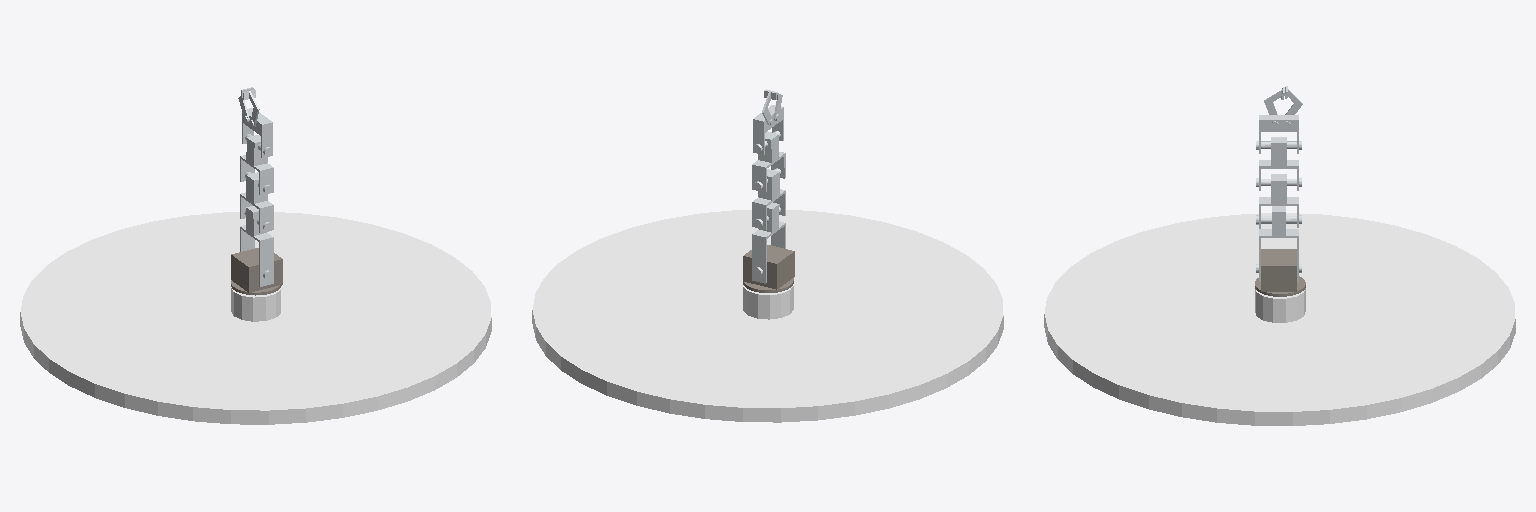
URDF robot description (bamba):
<robot
  name="bamba">
  <link
    name="base">
    <inertial>
      <origin
        xyz="-1.3286E-17 0.010522 -2.0071E-19"
        rpy="0 0 0" />
      <mass
        value="7.4968" />
      <inertia
        ixx="0.001"
        ixy="0"
        ixz="0"
        iyy="0.001"
        iyz="0"
        izz="0.001" />
    </inertial>
    <visual>
      <origin
        xyz="0 0 0"
        rpy="0 0 0" />
      <geometry>
        <mesh
          filename="package://bamba/meshes/base.STL" />
      </geometry>
      <material
        name="">
        <color
          rgba="1 1 1 1" />
      </material>
    </visual>
    <collision>
      <origin
        xyz="0 0 0"
        rpy="0 0 0" />
      <geometry>
        <mesh
          filename="package://bamba/meshes/base.STL" />
      </geometry>
    </collision>
  </link>
  <link
    name="base_link">
    <inertial>
      <origin
        xyz="-0.029653 -0.00012697 0.0013008"
        rpy="0 0 0" />
      <mass
        value="0.13356" />
      <inertia
        ixx="0.001"
        ixy="0"
        ixz="0"
        iyy="0.001"
        iyz="0"
        izz="0.001" />
    </inertial>
    <visual>
      <origin
        xyz="0 0 0"
        rpy="0 0 0" />
      <geometry>
        <mesh
          filename="package://bamba/meshes/base_link.STL" />
      </geometry>
      <material
        name="">
        <color
          rgba="0.64706 0.61961 0.58824 1" />
      </material>
    </visual>
    <collision>
      <origin
        xyz="0 0 0"
        rpy="0 0 0" />
      <geometry>
        <mesh
          filename="package://bamba/meshes/base_link.STL" />
      </geometry>
    </collision>
  </link>
  <joint
    name="joint_0"
    type="revolute">
    <origin
      xyz="0 0 0.044"
      rpy="1.4709 1.5708 0" />
    <parent
      link="base" />
    <child
      link="base_link" />
    <axis
      xyz="-1 0 0" />
    <limit
      lower="-1.57"
      upper="1.57"
      effort="100"
      velocity="100" />
    <dynamics
      damping="1"
      friction="1" />
  </joint>
  <link
    name="link_1">
    <inertial>
      <origin
        xyz="-0.00012583 0.03094 0.0017334"
        rpy="0 0 0" />
      <mass
        value="0.040392" />
      <inertia
        ixx="0.001"
        ixy="0"
        ixz="0"
        iyy="0.001"
        iyz="0"
        izz="0.001" />
    </inertial>
    <visual>
      <origin
        xyz="0 0 0"
        rpy="0 0 0" />
      <geometry>
        <mesh
          filename="package://bamba/meshes/link_1.STL" />
      </geometry>
      <material
        name="">
        <color
          rgba="0.89804 0.91765 0.92941 1" />
      </material>
    </visual>
    <collision>
      <origin
        xyz="0 0 0"
        rpy="0 0 0" />
      <geometry>
        <mesh
          filename="package://bamba/meshes/link_1.STL" />
      </geometry>
    </collision>
  </link>
  <joint
    name="joint_1"
    type="revolute">
    <origin
      xyz="-0.038 0 0"
      rpy="-1.6121E-17 -0.0973 1.5708" />
    <parent
      link="base_link" />
    <child
      link="link_1" />
    <axis
      xyz="0 0 1" />
    <limit
      lower="-1.77"
      upper="1.77"
      effort="100"
      velocity="100" />
    <dynamics
      damping="1"
      friction="1" />
  </joint>
  <link
    name="link_2">
    <inertial>
      <origin
        xyz="-0.02101 -0.0012662 0.0017342"
        rpy="0 0 0" />
      <mass
        value="0.036964" />
      <inertia
        ixx="0.001"
        ixy="0"
        ixz="0"
        iyy="0.001"
        iyz="0"
        izz="0.001" />
    </inertial>
    <visual>
      <origin
        xyz="0 0 0"
        rpy="0 0 0" />
      <geometry>
        <mesh
          filename="package://bamba/meshes/link_2.STL" />
      </geometry>
      <material
        name="">
        <color
          rgba="0.89804 0.91765 0.92941 1" />
      </material>
    </visual>
    <collision>
      <origin
        xyz="0 0 0"
        rpy="0 0 0" />
      <geometry>
        <mesh
          filename="package://bamba/meshes/link_2.STL" />
      </geometry>
    </collision>
  </link>
  <joint
    name="joint_2"
    type="revolute">
    <origin
      xyz="-0.00027654 0.067999 0"
      rpy="8.9772E-17 8.3728E-17 -1.6363" />
    <parent
      link="link_1" />
    <child
      link="link_2" />
    <axis
      xyz="0 0 1" />
    <limit
      lower="-1.77"
      upper="1.77"
      effort="100"
      velocity="100" />
    <dynamics
      damping="1"
      friction="1" />
  </joint>
  <link
    name="link_3">
    <inertial>
      <origin
        xyz="-0.0091402 0.01896 0.0017334"
        rpy="0 0 0" />
      <mass
        value="0.036964" />
      <inertia
        ixx="0.001"
        ixy="0"
        ixz="0"
        iyy="0.001"
        iyz="0"
        izz="0.001" />
    </inertial>
    <visual>
      <origin
        xyz="0 0 0"
        rpy="0 0 0" />
      <geometry>
        <mesh
          filename="package://bamba/meshes/link_3.STL" />
      </geometry>
      <material
        name="">
        <color
          rgba="0.89804 0.91765 0.92941 1" />
      </material>
    </visual>
    <collision>
      <origin
        xyz="0 0 0"
        rpy="0 0 0" />
      <geometry>
        <mesh
          filename="package://bamba/meshes/link_3.STL" />
      </geometry>
    </collision>
  </link>
  <joint
    name="joint_3"
    type="revolute">
    <origin
      xyz="-0.052405 -0.0031609 0"
      rpy="-1.0603E-16 -2.6455E-17 1.1761" />
    <parent
      link="link_2" />
    <child
      link="link_3" />
    <axis
      xyz="0 0 1" />
    <limit
      lower="-1.77"
      upper="1.77"
      effort="100"
      velocity="100" />
    <dynamics
      damping="1"
      friction="1" />
  </joint>
  <link
    name="link_4">
    <inertial>
      <origin
        xyz="-0.010775 0.011369 0.0018811"
        rpy="0 0 0" />
      <mass
        value="0.03322" />
      <inertia
        ixx="0.001"
        ixy="0"
        ixz="0"
        iyy="0.001"
        iyz="0"
        izz="0.001" />
    </inertial>
    <visual>
      <origin
        xyz="0 0 0"
        rpy="0 0 0" />
      <geometry>
        <mesh
          filename="package://bamba/meshes/link_4.STL" />
      </geometry>
      <material
        name="">
        <color
          rgba="0.89804 0.91765 0.92941 1" />
      </material>
    </visual>
    <collision>
      <origin
        xyz="0 0 0"
        rpy="0 0 0" />
      <geometry>
        <mesh
          filename="package://bamba/meshes/link_4.STL" />
      </geometry>
    </collision>
  </link>
  <joint
    name="joint_4"
    type="revolute">
    <origin
      xyz="-0.022802 0.04729 0"
      rpy="-1.7347E-18 0 -0.30764" />
    <parent
      link="link_3" />
    <child
      link="link_4" />
    <axis
      xyz="0 0 1" />
    <limit
      lower="-1.77"
      upper="1.77"
      effort="100"
      velocity="100" />
    <dynamics
      damping="1"
      friction="1" />
  </joint>
  <link
    name="pincer_master">
    <inertial>
      <origin
        xyz="0.0046223 -0.010473 0.00013126"
        rpy="0 0 0" />
      <mass
        value="0.0047634" />
      <inertia
        ixx="0.001"
        ixy="0"
        ixz="0"
        iyy="0.001"
        iyz="0"
        izz="0.001" />
    </inertial>
    <visual>
      <origin
        xyz="0 0 0"
        rpy="0 0 0" />
      <geometry>
        <mesh
          filename="package://bamba/meshes/pincer_master.STL" />
      </geometry>
      <material
        name="">
        <color
          rgba="0.89804 0.91765 0.92941 1" />
      </material>
    </visual>
    <collision>
      <origin
        xyz="0 0 0"
        rpy="0 0 0" />
      <geometry>
        <mesh
          filename="package://bamba/meshes/pincer_master.STL" />
      </geometry>
    </collision>
  </link>
  <joint
    name="joint_5"
    type="revolute">
    <origin
      xyz="-0.0227 0.023952 0.0064819"
      rpy="0.076967 -2.2708E-15 -2.383" />
    <parent
      link="link_4" />
    <child
      link="pincer_master" />
    <axis
      xyz="-1 0 0" />
    <limit
      lower="0"
      upper="3.14"
      effort="100"
      velocity="100" />
    <dynamics
      damping="1"
      friction="1" />
  </joint>
  <link
    name="pincer_slave">
    <inertial>
      <origin
        xyz="0.0046223 -0.010408 -0.0011652"
        rpy="0 0 0" />
      <mass
        value="0.0047634" />
      <inertia
        ixx="0.001"
        ixy="0"
        ixz="0"
        iyy="0.001"
        iyz="0"
        izz="0.001" />
    </inertial>
    <visual>
      <origin
        xyz="0 0 0"
        rpy="0 0 0" />
      <geometry>
        <mesh
          filename="package://bamba/meshes/pincer_slave.STL" />
      </geometry>
      <material
        name="">
        <color
          rgba="0.89804 0.91765 0.92941 1" />
      </material>
    </visual>
    <collision>
      <origin
        xyz="0 0 0"
        rpy="0 0 0" />
      <geometry>
        <mesh
          filename="package://bamba/meshes/pincer_slave.STL" />
      </geometry>
    </collision>
  </link>
  <joint
    name="joint_slave"
    type="revolute">
    <origin
      xyz="-0.0227 0.023952 -0.0088681"
      rpy="0.076967 -2.2708E-15 -2.383" />
    <parent
      link="link_4" />
    <child
      link="pincer_slave" />
    <axis
      xyz="-1 0 0" />
    <limit
      lower="-3.14"
      upper="0"
      effort="100"
      velocity="100" />
    <dynamics
      damping="1"
      friction="1" />
  </joint>
</robot>

--- Facts derived from the render (not from the file) ---
Views: 3 orthographic renders of the robot side by side, from view 1: azimuth 30°, elevation 25°; view 2: azimuth 150°, elevation 25°; view 3: azimuth 270°, elevation 25°.
Robot: bamba — 8 links, 7 joints (7 revolute); root link base; default pose: all joints at 0.
Visible links, largest first — view 1: base, base_link, link_1, link_3, link_2, link_4; view 2: base, base_link, link_1, link_3, link_2, link_4; view 3: base, base_link, link_2, link_3, link_1, link_4.
Link boxes in pixels (<box>): base: <box>20,212,491,424</box>; base_link: <box>231,248,282,295</box>; link_1: <box>240,206,273,286</box>; link_3: <box>240,135,273,195</box>; link_2: <box>240,172,273,232</box>; link_4: <box>242,108,272,157</box>; base: <box>532,210,1003,422</box>; base_link: <box>743,245,794,292</box>; link_1: <box>752,202,785,283</box>; link_3: <box>752,131,785,192</box>; link_2: <box>752,169,785,229</box>; link_4: <box>753,105,783,154</box>; base: <box>1044,213,1515,425</box>; base_link: <box>1255,249,1305,296</box>; link_2: <box>1256,174,1301,228</box>; link_3: <box>1256,137,1301,190</box>; link_1: <box>1256,206,1301,281</box>; link_4: <box>1256,115,1301,153</box>.
Size in the robot's own frame: 0.5995 by 0.5993 by 0.3306 metres.
Meshes: 8 distinct files referenced, 8 mesh visuals loaded (8 binary STL).